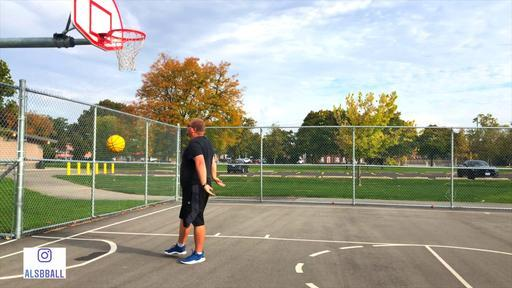ball: (106, 135, 126, 152)
human: (165, 118, 226, 263)
rim: (109, 29, 146, 69)
